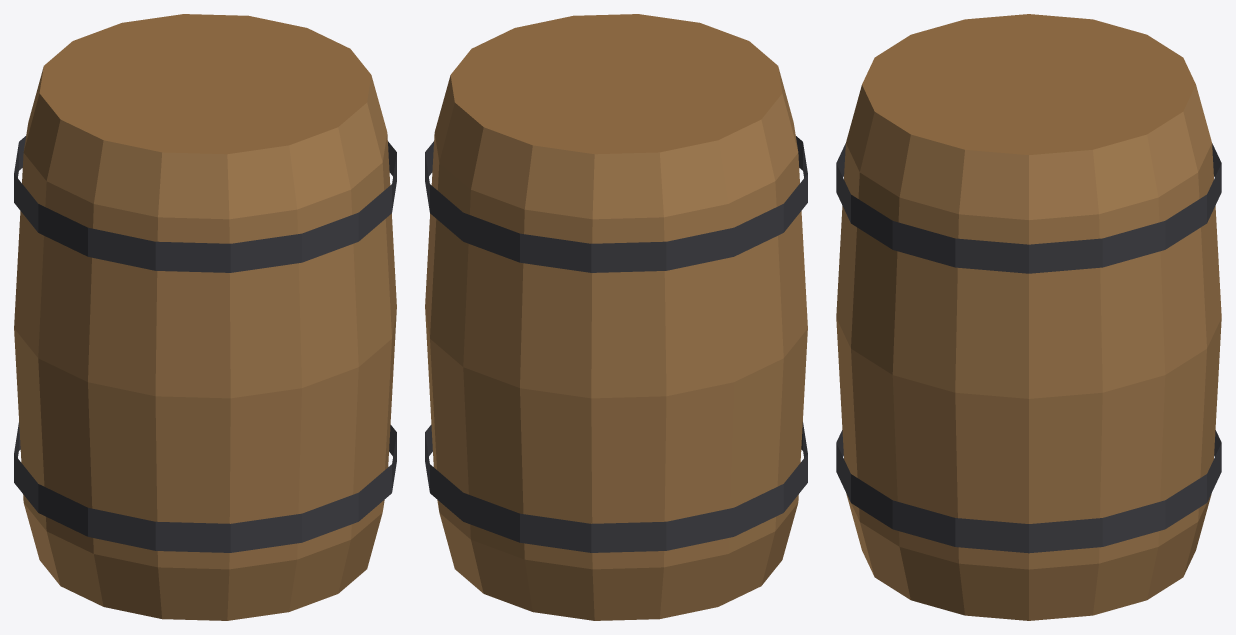
The model's file is barrel.glb.
3 renders of one model, left to right at view 1: azimuth 30°, elevation 25°; view 2: azimuth 150°, elevation 25°; view 3: azimuth 270°, elevation 25°, orthographic.
Visible parts, largest first — view 1: barrel; view 2: barrel; view 3: barrel.
Part boxes in pixels (box(x1,y1,x2,y2)): barrel: box(14, 14, 396, 620); barrel: box(425, 14, 807, 620); barrel: box(836, 14, 1221, 620).
Bounding box in the file's own units: 0.6 × 0.8 × 0.6.
